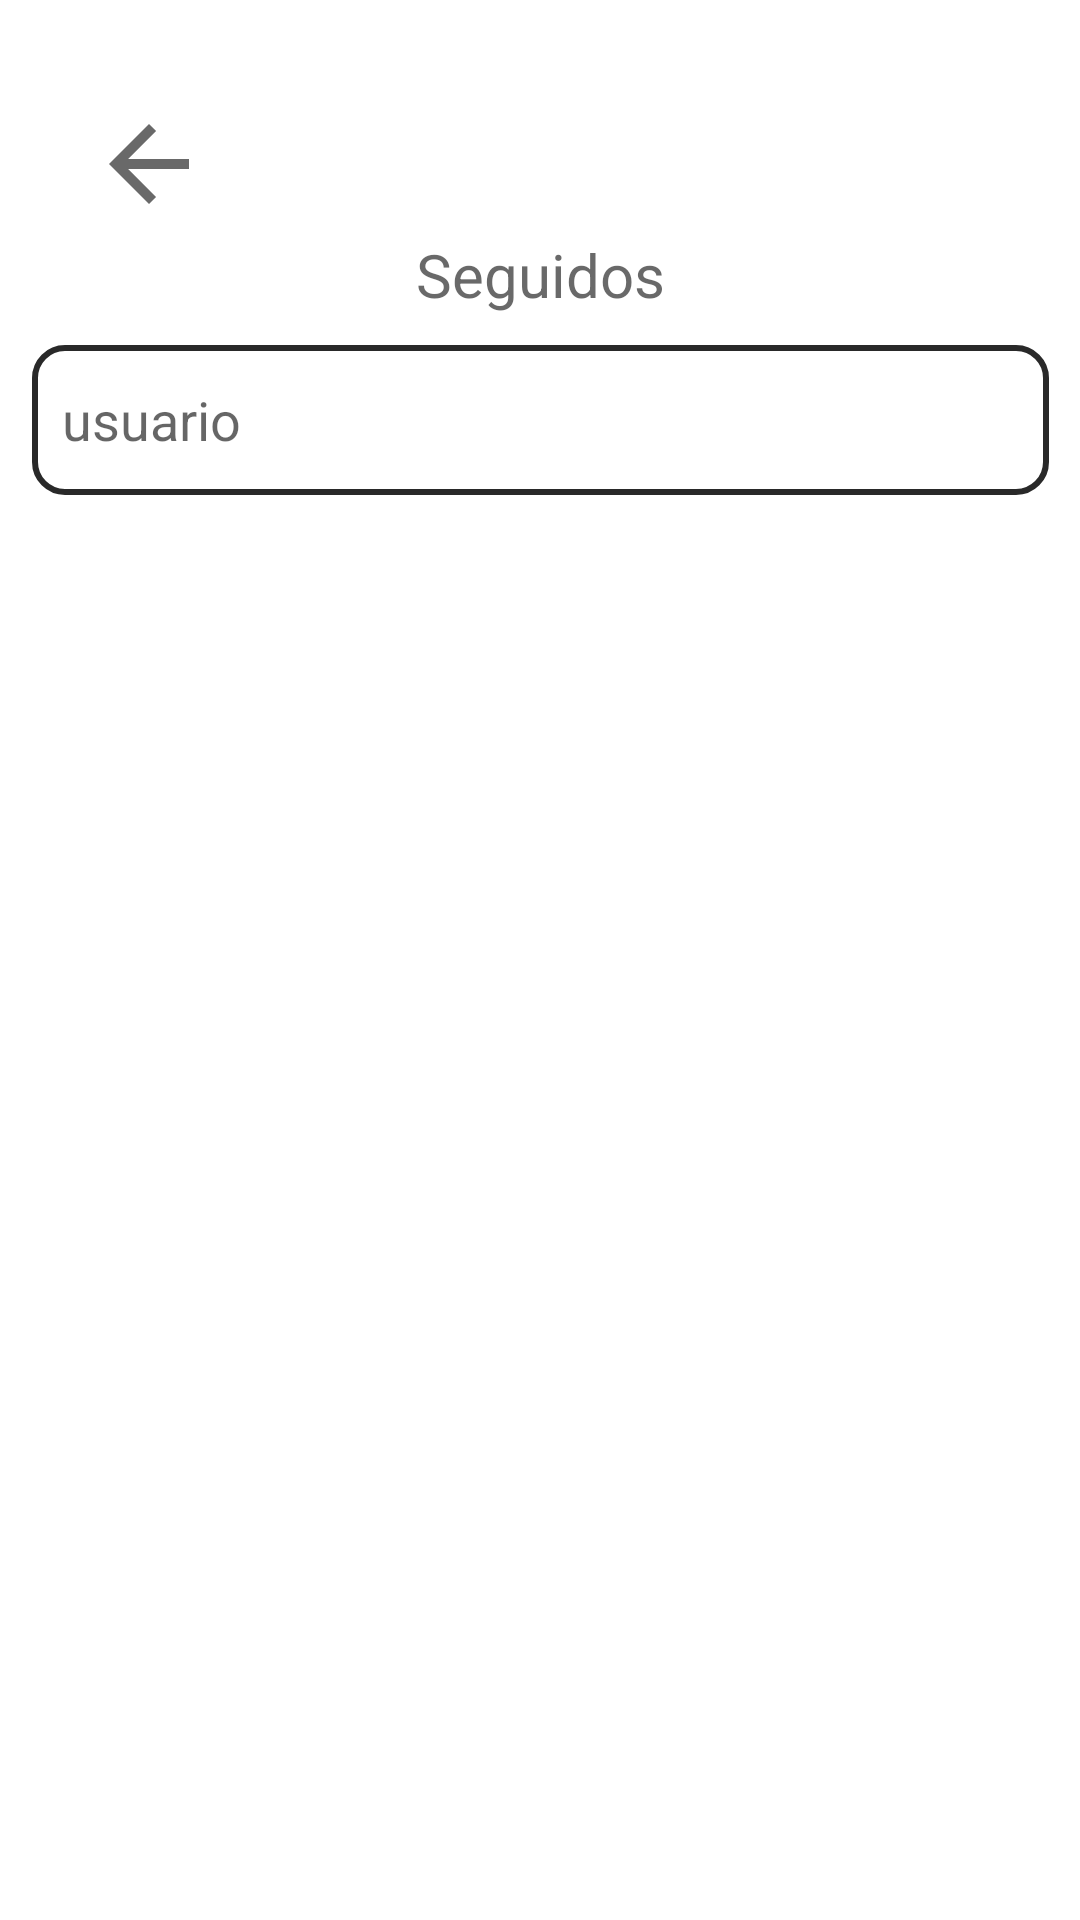

Icons on this 1080*1920 Android screen, each with the point to tap as (x,y):
arrow back: (149,164)
